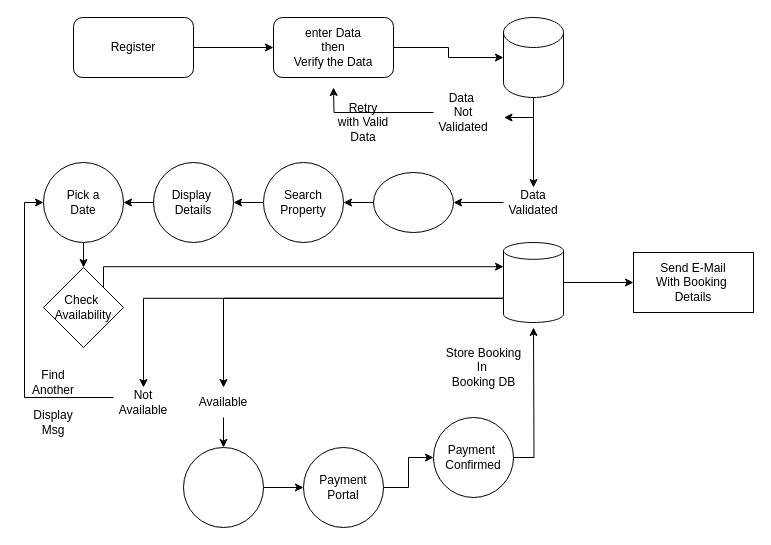
The diagram is 771 pixels wide and 545 high, and some of its shapes have lost their labels. The centre of each missing label's shape, as x and y in pixels:
"Book Property" belongs at pixel 223 487.
"Booking DB" belongs at pixel 533 282.
"User Account Ready" belongs at pixel 413 202.
"Users DB" belongs at pixel 533 57.
